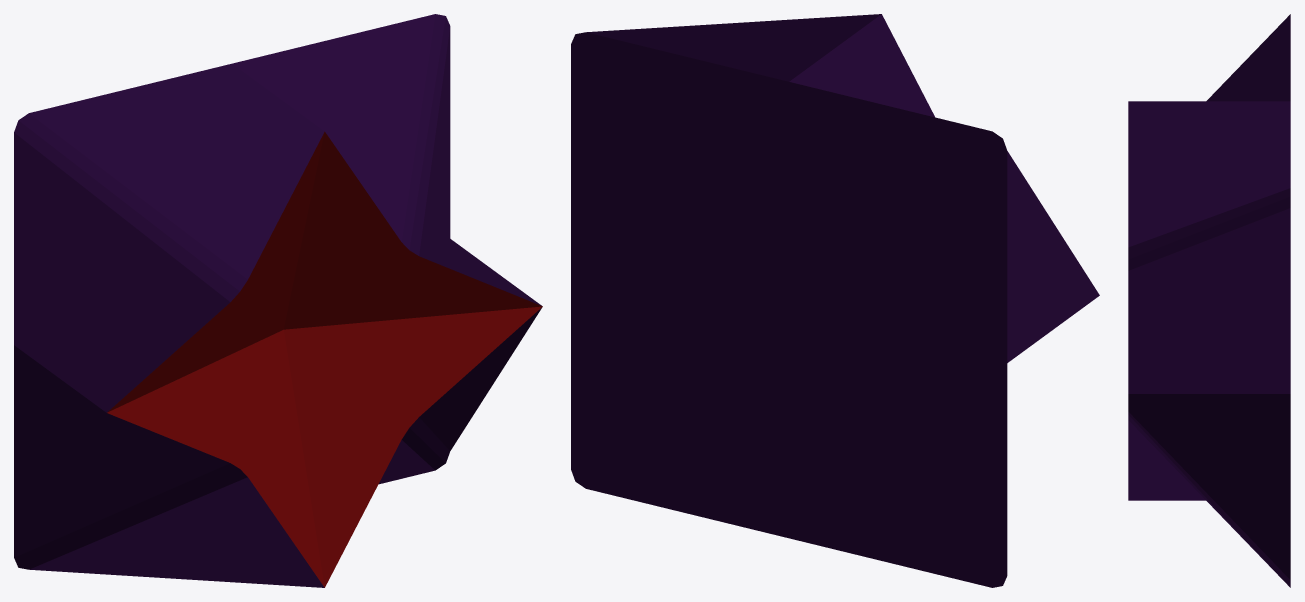
File: Laser_x2.fbx
The picture shows the model from 3 angles, left to right: view 1: azimuth 30°, elevation 25°; view 2: azimuth 150°, elevation 25°; view 3: azimuth 270°, elevation 25°; orthographic projection. The views are drawn at different scales.
Visible parts, largest first — view 1: Cube; view 2: Cube; view 3: Cube.
Part boxes in pixels (x1=…): Cube: x1=14, y1=14, x2=542, y2=587; Cube: x1=571, y1=14, x2=1099, y2=587; Cube: x1=1128, y1=14, x2=1290, y2=587.
Bounding box in the file's own units: 200 × 200 × 73.56.
